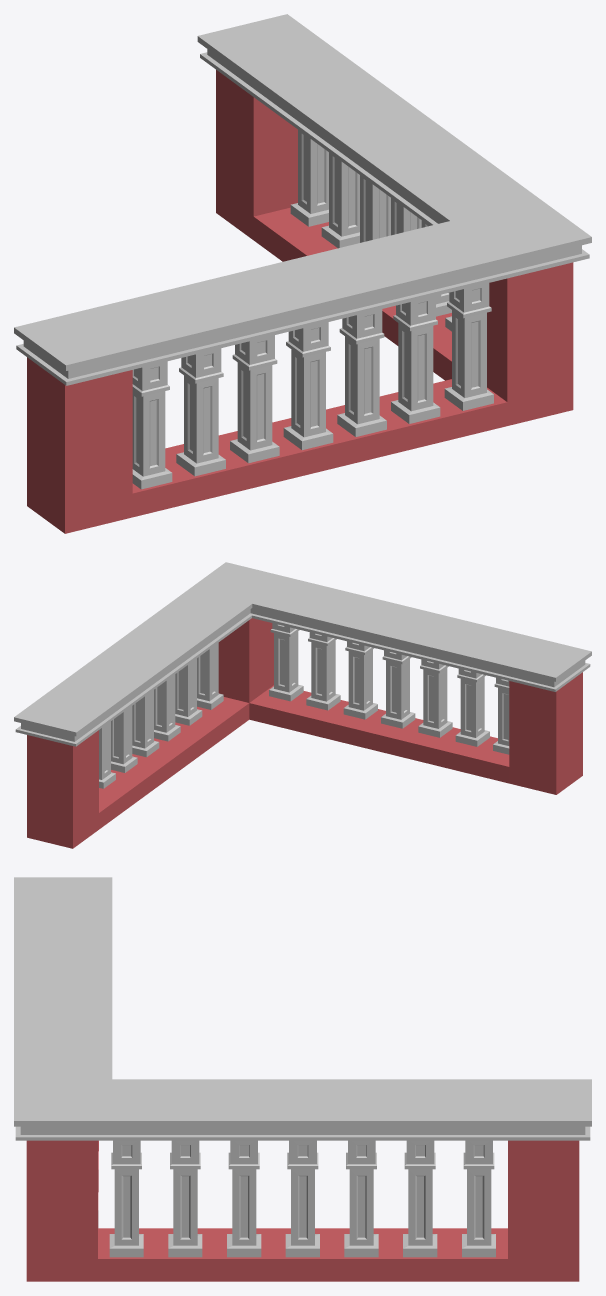
File: station_fence_corner.fbx
3 renders of one model, top to bottom at view 1: azimuth 30°, elevation 25°; view 2: azimuth 150°, elevation 25°; view 3: azimuth 270°, elevation 25°, orthographic. The views are drawn at different scales.
Visible parts, largest first — view 1: fence_corner; view 2: fence_corner; view 3: fence_corner.
Part boxes in pixels (x1=…): fence_corner: x1=14, y1=14, x2=591, y2=533; fence_corner: x1=14, y1=562, x2=591, y2=848; fence_corner: x1=14, y1=877, x2=591, y2=1281.
Size of the model in its own units: 2.33 by 0.739 by 2.33.
